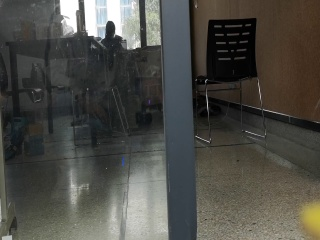room: (3, 5, 295, 230)
